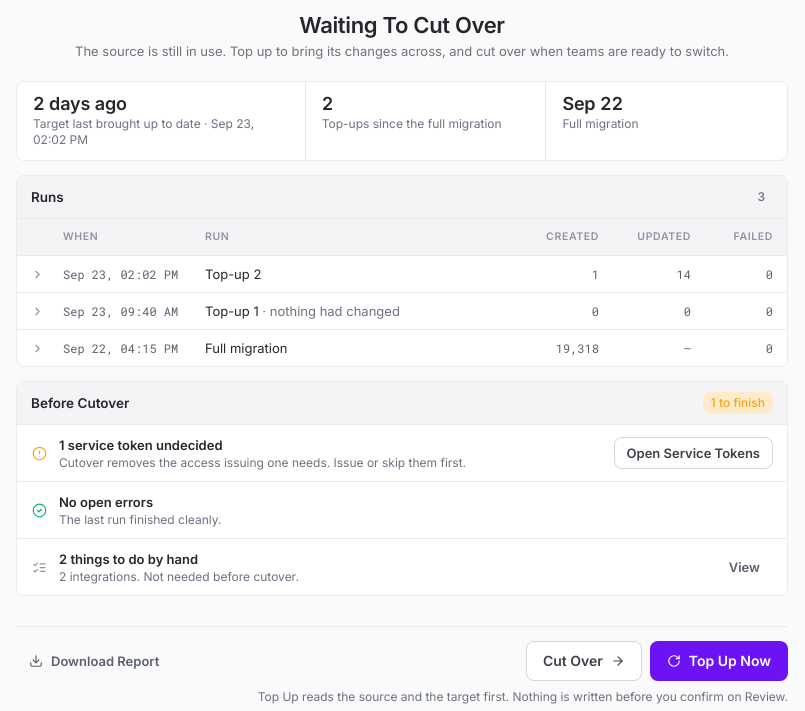
Test: StandbyPage › opens a run to show what it changed
What coordinates should you click on to do the following:
click the button "Sep 23, 02:02 PM Top-up 2 1 14 0"
I would click on:
 (121, 274)
Its box is [17,256,787,292].
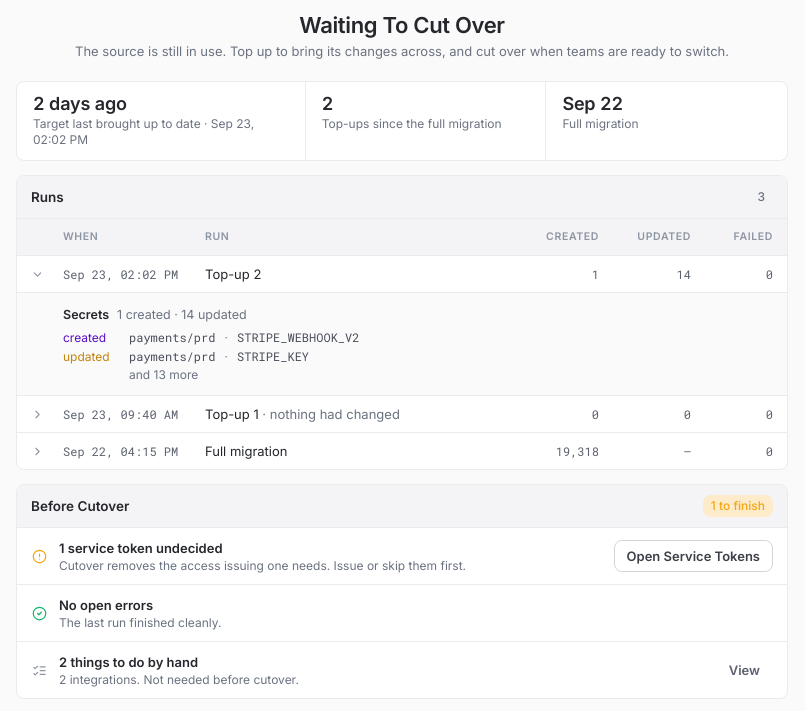
Result: the text "1 created · 14 updated" is shown at [117,305,247,325]
Result: the text "payments/prd · STRIPE_KEY" is shown at [129,348,309,364]
Result: the list item "and 13 more" is shown at [129,367,198,382]
